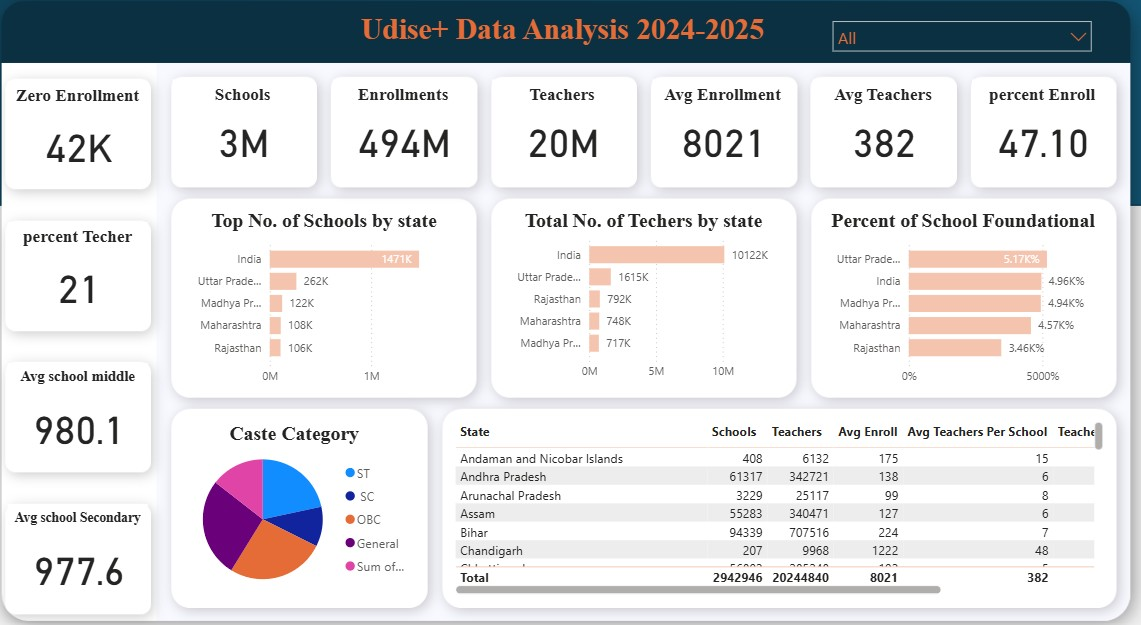

This screenshot's page, from the dashboard's own definition file:
{"tool":"powerbi","page":{"name":"Udise analysis 1","canvas":[1280,720],"ordinal":1},"visuals":[{"type":"card","fields":{"Values":["Sum(Udise 2024-2025.No.of Schools)"]},"box":[212.9,123.7,154.1,93.3],"z":0},{"type":"textbox","box":[212.9,105.4,152.1,44.6],"z":1000},{"type":"card","fields":{"Values":["Sum(Udise 2024-2025.Enrolments)"]},"box":[386.4,123.7,154.1,93.3],"z":2000},{"type":"card","fields":{"Values":["Sum(Udise 2024-2025.Teachers)"]},"box":[560,123.7,154.1,93.3],"z":3000},{"type":"card","fields":{"Values":["Sum(Udise 2024-2025.Average Enrolments Per School)"]},"box":[733.5,123.7,154.1,93.3],"z":4000},{"type":"card","fields":{"Values":["Sum(Udise 2024-2025.Average Teachers Per School)"]},"box":[907.1,123.7,154.1,93.3],"z":5000},{"type":"card","fields":{"Values":["Avg(Udise 2024-2025.percent of schools Foundational)"]},"box":[1080.6,123.7,154.1,93.3],"z":6000},{"type":"textbox","box":[386.4,105.4,152.1,44.6],"z":7000},{"type":"textbox","box":[560,105.4,152.1,44.6],"z":8000},{"type":"textbox","box":[907.1,105.4,152.1,44.6],"z":9000},{"type":"textbox","box":[733.5,105.4,152.1,44.6],"z":10000},{"type":"textbox","box":[1080.6,105.4,152.1,44.6],"z":11000},{"type":"card","fields":{"Values":["Sum(Udise 2024-2025.Teachers in schools having zero Enrolments)"]},"box":[34,127.7,154.1,93.3],"z":12000},{"type":"card","fields":{"Values":["Avg(Udise 2024-2025.Techer Percent Foundation)"]},"box":[34,281.1,154.1,93.3],"z":13000},{"type":"card","fields":{"Values":["Sum(Udise 2024-2025.percent of school Middle)"]},"box":[34,434.6,154.1,93.3],"z":14000},{"type":"card","fields":{"Values":["Sum(Udise 2024-2025.percent of school Secondary)"]},"box":[34,588,154.1,93.3],"z":15000},{"type":"textbox","box":[33.5,412.9,152.1,44.6],"z":16000},{"type":"textbox","box":[33.5,260.2,152.1,44.6],"z":17000},{"type":"textbox","box":[33.5,107.5,152.1,44.6],"z":18000},{"type":"textbox","box":[33.5,565.7,152.1,44.6],"z":19000},{"type":"barChart","fields":{"Category":["Udise 2024-2025.India/State/UT"],"Y":["Sum(Udise 2024-2025.No.of Schools)"]},"box":[221,267.6,312.2,176.4],"z":20000},{"type":"textbox","box":[221,241.3,312.2,38.5],"z":21000},{"type":"barChart","fields":{"Category":["Udise 2024-2025.India/State/UT"],"Y":["Sum(Udise 2024-2025.Teachers)"]},"box":[567.7,263.6,312.2,176.4],"z":22000},{"type":"textbox","box":[567.7,241.3,312.2,38.5],"z":23000},{"type":"barChart","fields":{"Category":["Udise 2024-2025.India/State/UT"],"Y":["Sum(Udise 2024-2025.percent of schools Foundational)"]},"box":[914.4,267.6,312.2,176.4],"z":24000},{"type":"textbox","box":[914.4,241.3,312.2,38.5],"z":25000},{"type":"pieChart","fields":{"Y":["Sum(Udise 2024-2025.ST)","Sum(Udise 2024-2025.SC)","Sum(Udise 2024-2025.OBC)","Sum(Udise 2024-2025.General)","Sum(Udise 2024-2025.Muslim)"]},"box":[216.9,496.7,265.6,172.3],"z":26000},{"type":"textbox","box":[233.5,471.1,221.3,38.6],"z":27000},{"type":"tableEx","fields":{"Values":["Udise 2024-2025.India/State/UT","Sum(Udise 2024-2025.No.of Schools)","Sum(Udise 2024-2025.Teachers)","Sum(Udise 2024-2025.Average Enrolments Per School)","Sum(Udise 2024-2025.Average Teachers Per School)","Sum(Udise 2024-2025.Teacher percent Middle)","Sum(Udise 2024-2025.Teacher percent Secondary)"]},"box":[513.8,471.1,712.8,197],"z":28000},{"type":"textbox","box":[135,28,1010,48],"z":29000},{"type":"slicer","fields":{"Values":["Udise 2024-2025.India/State/UT"]},"box":[919,32.5,300.9,45.5],"z":29001}]}

Visuals, with their boxes in screenshot pixels (x1, y1, x2, y2), scaled from the page's 1280x720 canvas onto the 1141x625 screenshot:
card - Sum(Udise 2024-2025.No.of Schools): Rect(190, 107, 327, 188)
textbox: Rect(190, 91, 325, 130)
card - Sum(Udise 2024-2025.Enrolments): Rect(344, 107, 482, 188)
card - Sum(Udise 2024-2025.Teachers): Rect(499, 107, 637, 188)
card - Sum(Udise 2024-2025.Average Enrolments Per School): Rect(654, 107, 791, 188)
card - Sum(Udise 2024-2025.Average Teachers Per School): Rect(809, 107, 946, 188)
card - Avg(Udise 2024-2025.percent of schools Foundational): Rect(963, 107, 1101, 188)
textbox: Rect(344, 91, 480, 130)
textbox: Rect(499, 91, 635, 130)
textbox: Rect(809, 91, 944, 130)
textbox: Rect(654, 91, 789, 130)
textbox: Rect(963, 91, 1099, 130)
card - Sum(Udise 2024-2025.Teachers in schools having zero Enrolments): Rect(30, 111, 168, 192)
card - Avg(Udise 2024-2025.Techer Percent Foundation): Rect(30, 244, 168, 325)
card - Sum(Udise 2024-2025.percent of school Middle): Rect(30, 377, 168, 458)
card - Sum(Udise 2024-2025.percent of school Secondary): Rect(30, 510, 168, 591)
textbox: Rect(30, 358, 165, 397)
textbox: Rect(30, 226, 165, 265)
textbox: Rect(30, 93, 165, 132)
textbox: Rect(30, 491, 165, 530)
barChart - Udise 2024-2025.India/State/UT x Sum(Udise 2024-2025.No.of Schools): Rect(197, 232, 475, 385)
textbox: Rect(197, 209, 475, 243)
barChart - Udise 2024-2025.India/State/UT x Sum(Udise 2024-2025.Teachers): Rect(506, 229, 784, 382)
textbox: Rect(506, 209, 784, 243)
barChart - Udise 2024-2025.India/State/UT x Sum(Udise 2024-2025.percent of schools Foundational): Rect(815, 232, 1093, 385)
textbox: Rect(815, 209, 1093, 243)
pieChart - Sum(Udise 2024-2025.ST) x Sum(Udise 2024-2025.SC): Rect(193, 431, 430, 581)
textbox: Rect(208, 409, 405, 442)
tableEx - Udise 2024-2025.India/State/UT x Sum(Udise 2024-2025.No.of Schools): Rect(458, 409, 1093, 580)
textbox: Rect(120, 24, 1021, 66)
slicer - Udise 2024-2025.India/State/UT: Rect(819, 28, 1087, 68)
